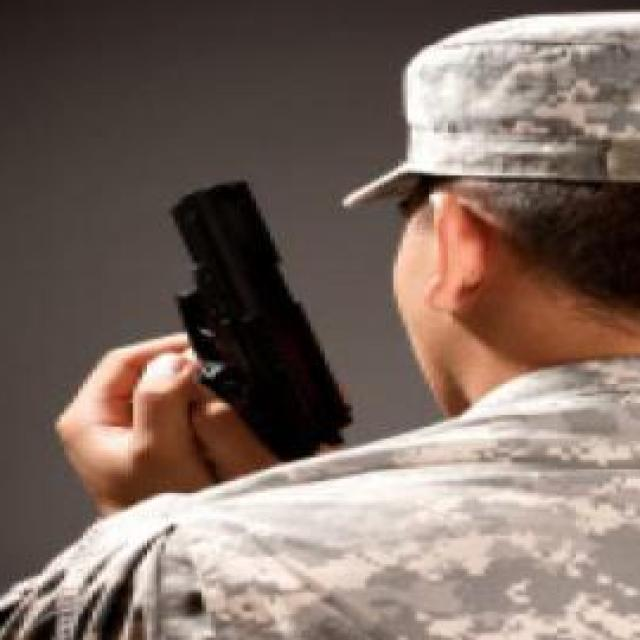pistol: (102, 187, 384, 447)
